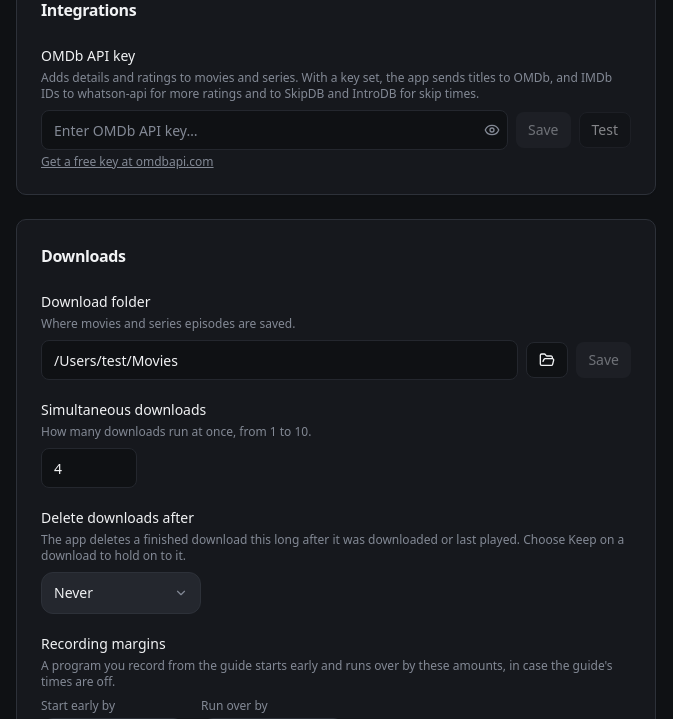
Settings download folder › picks a folder with the folder dialog and saves it
The width and height of the screenshot is (673, 719).
(page scrolled)
Click the button named "Browse for folder": {"x": 547, "y": 360} x1=526 y1=342 x2=568 y2=378
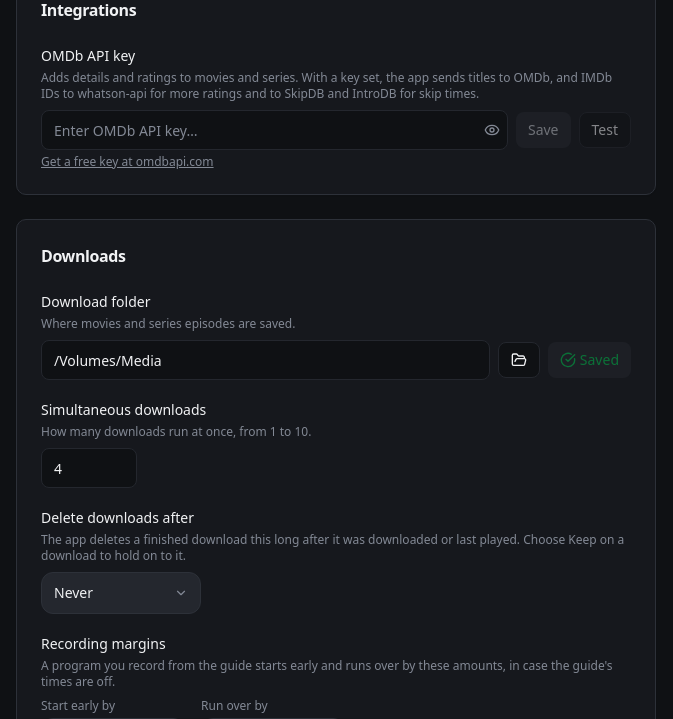
Check: the button "Saved" is disabled, box x1=548 y1=342 x2=631 y2=378
Check: the field with placeholder "/path/to/downloads" holds "/Volumes/Media", box x1=41 y1=340 x2=490 y2=380
